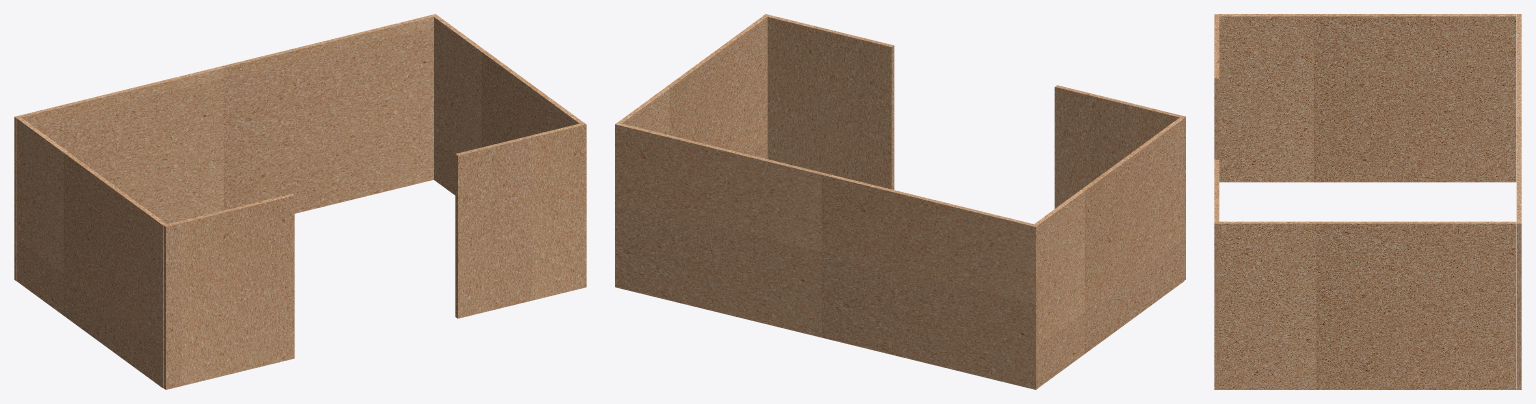
File: Mur Liège.fbx
3 views of the same model, side by side, from view 1: azimuth 30°, elevation 25°; view 2: azimuth 150°, elevation 25°; view 3: azimuth 270°, elevation 25° (orthographic). The views are drawn at different scales.
Parts seen in each view (by area): view 1: Mur_liège; view 2: Mur_liège; view 3: Mur_liège.
Part boxes in pixels (<box>): Mur_liège: <box>14,14,586,389</box>; Mur_liège: <box>615,14,1185,389</box>; Mur_liège: <box>1214,14,1521,389</box>.
Size of the model in its own units: 500 by 185 by 310.
